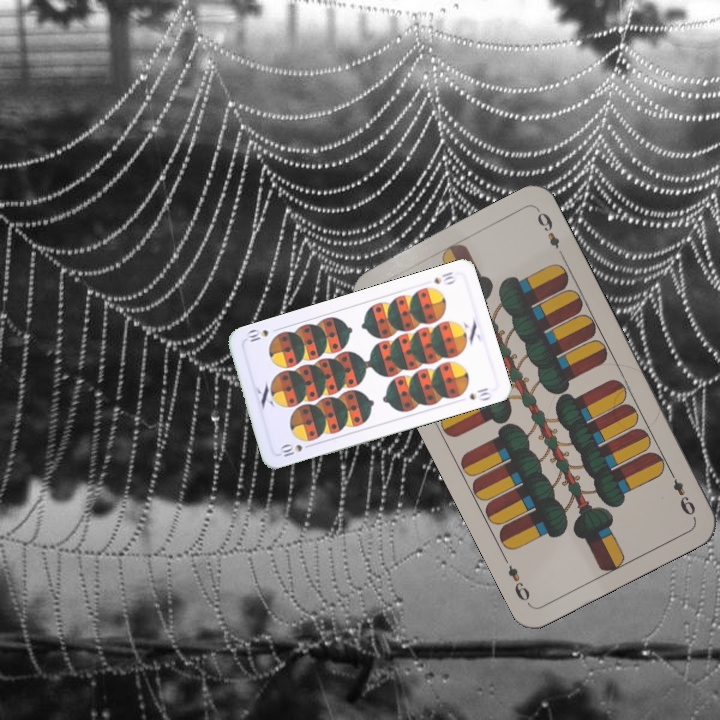E9: (665, 465, 698, 519)
S10: (276, 440, 315, 459), (430, 268, 458, 287)
